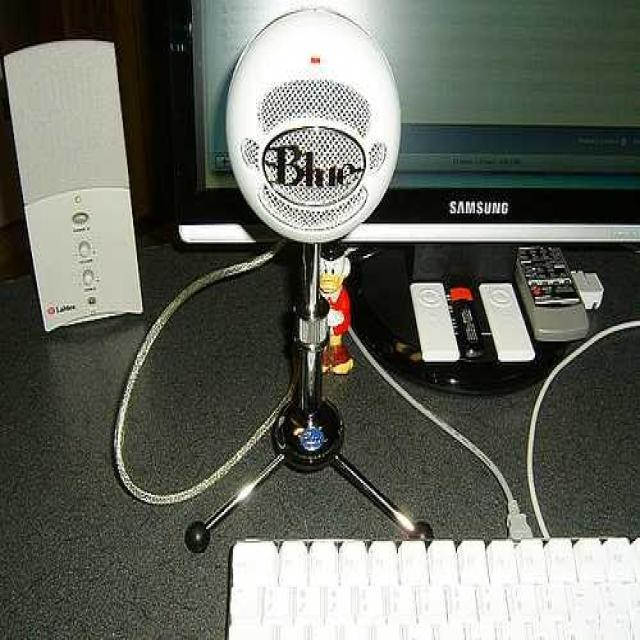microphone: (227, 4, 404, 463)
